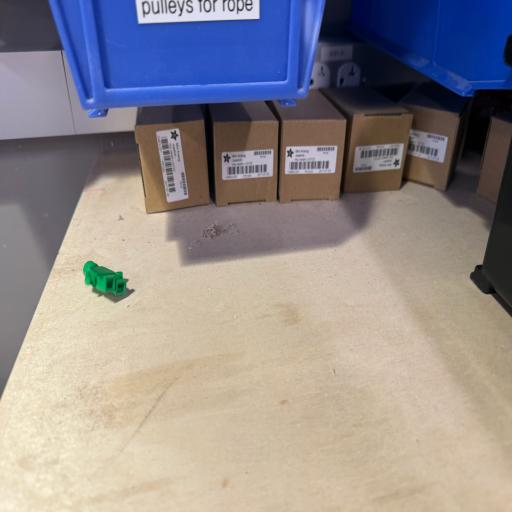Lego-Dude: (83, 259, 130, 300)
